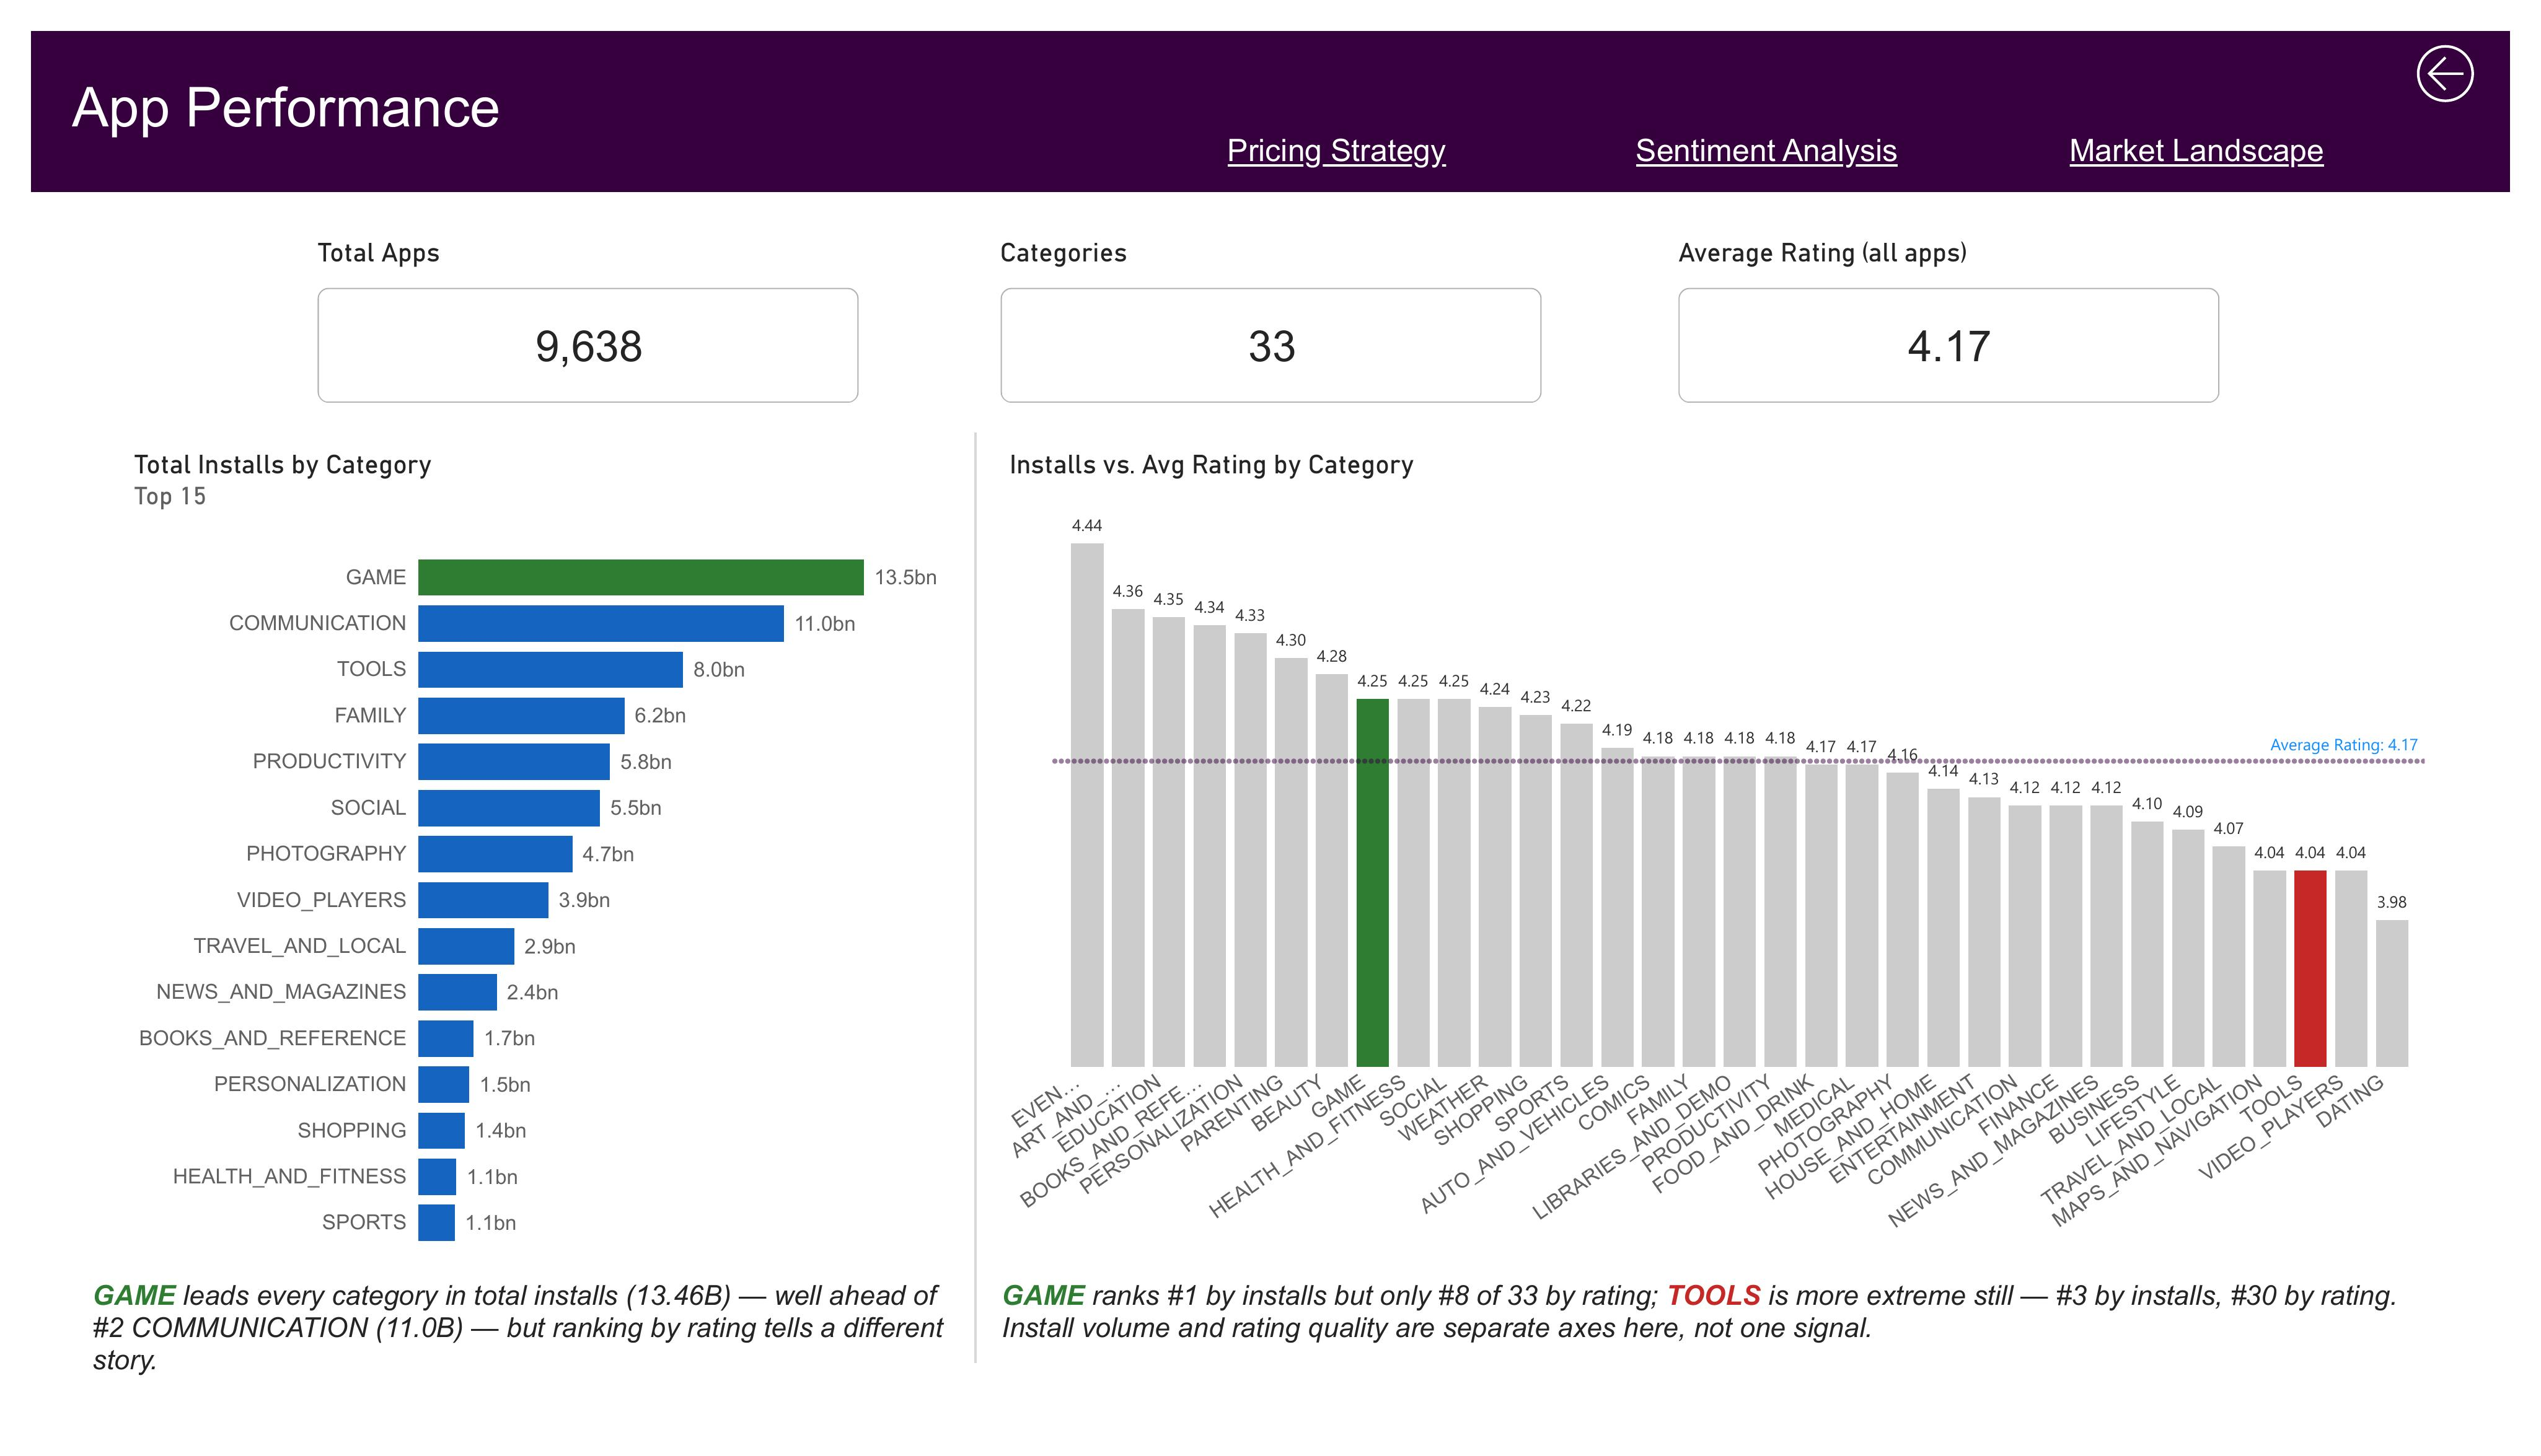

This screenshot's page, from the dashboard's own definition file:
{"tool":"powerbi","page":{"name":"App_Performance","canvas":[1920,1080],"ordinal":1},"visuals":[{"type":"shape","box":[0,0,1920.2,125.2],"z":0},{"type":"textbox","box":[31.7,35.1,531,58.4],"z":1000},{"type":"shape","box":[845.5,60,332.7,65.5],"z":2000},{"type":"shape","box":[1178.2,60,332.7,65.5],"z":3000},{"type":"shape","box":[1510.9,60,332.7,65.5],"z":4000},{"type":"actionButton","box":[1820,0,100,65],"z":5000},{"type":"textbox","box":[48,968,670,96],"z":6000},{"type":"cardVisual","title":"Total Apps","fields":{"Data":["stg_apps.Total Apps"]},"box":[222.5,160.2,418.6,129.1],"z":7000},{"type":"cardVisual","title":"Categories","fields":{"Data":["stg_apps.Total Categories"]},"box":[751.1,160.2,418.6,129.1],"z":8000},{"type":"cardVisual","title":"Average Rating (all apps)","fields":{"Data":["stg_apps.Average Rating"]},"box":[1276.1,160.2,418.6,129.1],"z":9000},{"type":"barChart","title":"Total Installs by Category","fields":{"Category":["fct_app_performance.category"],"Y":["Sum(fct_app_performance.total_installs)"]},"box":[64,310,654,658],"z":10000},{"type":"columnChart","title":"Installs vs. Avg Rating by Category","fields":{"Category":["fct_app_performance.category"],"Y":["Avg(fct_app_performance.avg_rating)"]},"box":[742,310,1128,658],"z":11000},{"type":"textbox","box":[752,968,1103.7,68.5],"z":12000},{"type":"shape","box":[724.7,311,13.4,721.3],"z":13000}]}

Visuals, with their boxes on the page's 1920x1080 design canvas (x1, y1, x2, y2). These are canvas units, not pixel positions in the 2541x1456 screenshot, which may show the page scaled, cropped or inside an application window:
shape: (0, 0, 1920, 125)
textbox: (32, 35, 563, 94)
shape: (846, 60, 1178, 126)
shape: (1178, 60, 1511, 126)
shape: (1511, 60, 1844, 126)
actionButton: (1820, 0, 1920, 65)
textbox: (48, 968, 718, 1064)
"Total Apps" cardVisual: (222, 160, 641, 289)
"Categories" cardVisual: (751, 160, 1170, 289)
"Average Rating (all apps)" cardVisual: (1276, 160, 1695, 289)
"Total Installs by Category" barChart: (64, 310, 718, 968)
"Installs vs. Avg Rating by Category" columnChart: (742, 310, 1870, 968)
textbox: (752, 968, 1856, 1036)
shape: (725, 311, 738, 1032)
